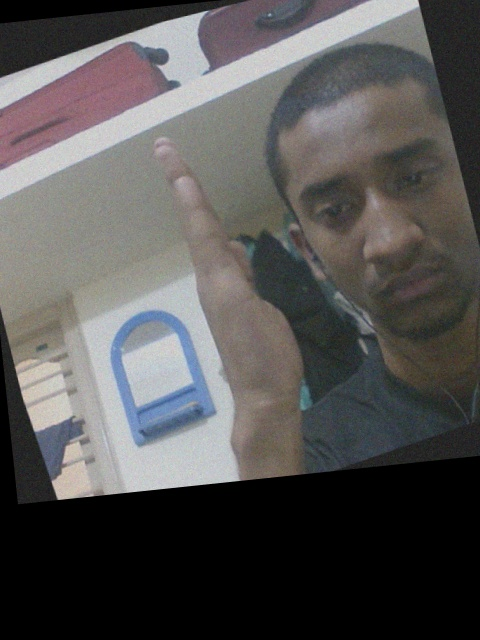hand: (149, 133, 309, 406)
